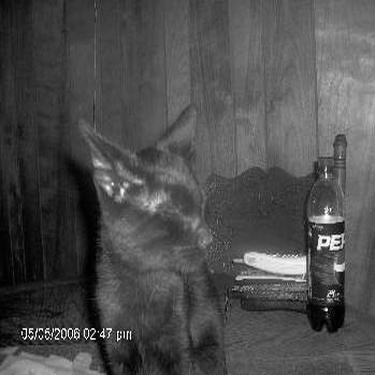cat: (51, 102, 251, 361)
